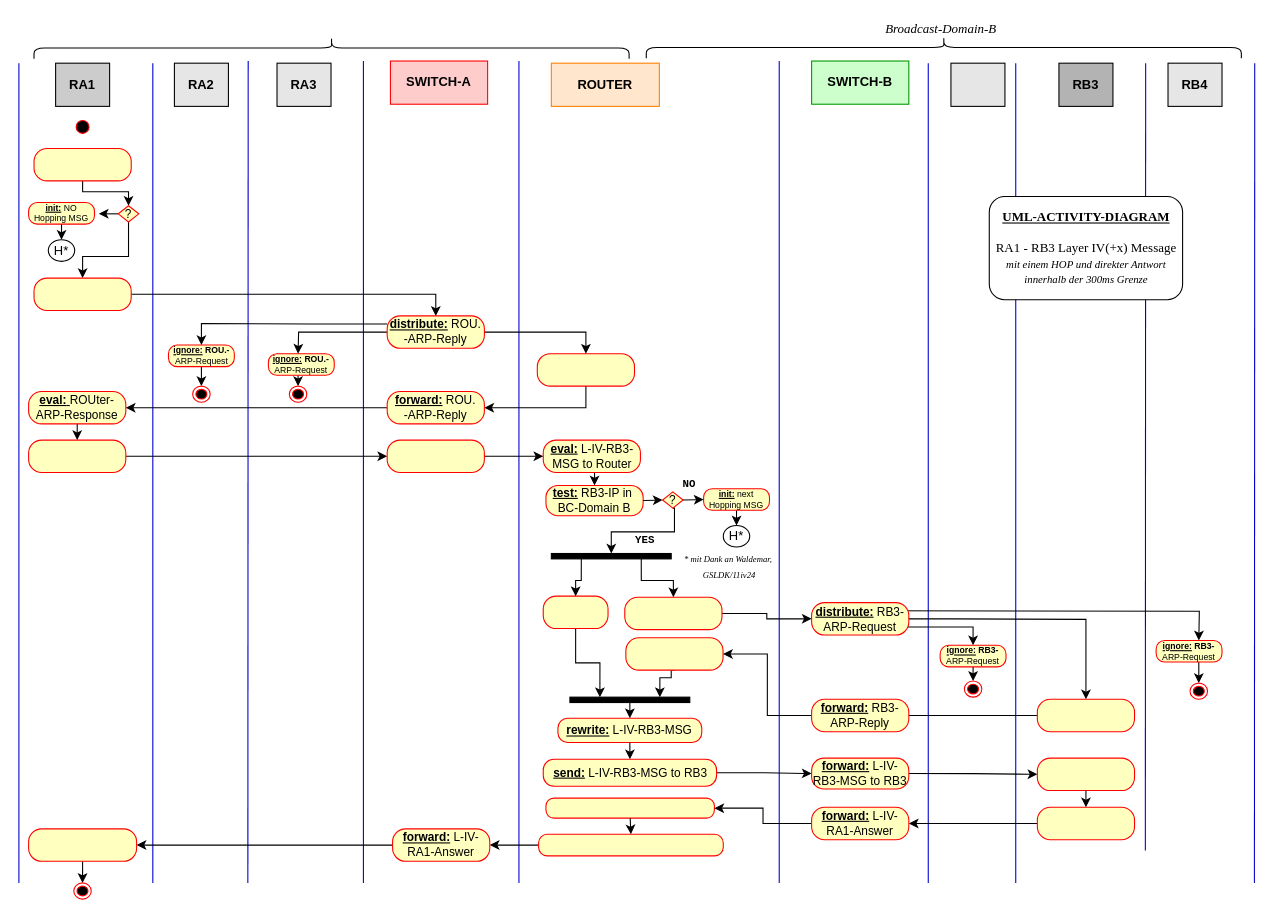
This 1275x918 diagram has some shape labels left out. The centre of each missing label's shape, as x and y in pixels:
"Broadcast-Domain-A" goes at point (331, 47).
"eval: L-IV- RA1- Answer from RB3" goes at point (82, 844).
"eval: L-IV- RB3- Message" goes at point (1085, 774).
"eval: RB3- ARP-Reply" goes at point (674, 653).
"forward: L-IV-RB3-MSG" goes at point (435, 456).
"RB2" goes at point (977, 84).
"respond: RB3- ARP-Reply" goes at point (1085, 715).
"respond: ROU.- ARP-Request" goes at point (585, 369).
"rewrite: L-IV- RA1-Answer" goes at point (629, 807).
"send: L-IV-RA1-Answer to RA1" goes at point (630, 844).
"send: L-IV-RA1-Answer to Router" goes at point (1085, 823).
"send: L-IV-RB3-MSG to Router" goes at point (77, 456).
"send: RB3 - ARP-Request" goes at point (673, 613).
"send: ROUter- ARP-Request" goes at point (82, 293).
"store: RA1 -IP" goes at point (575, 612).
"test: RB3-IP in BC- Domain A" goes at point (82, 164).
